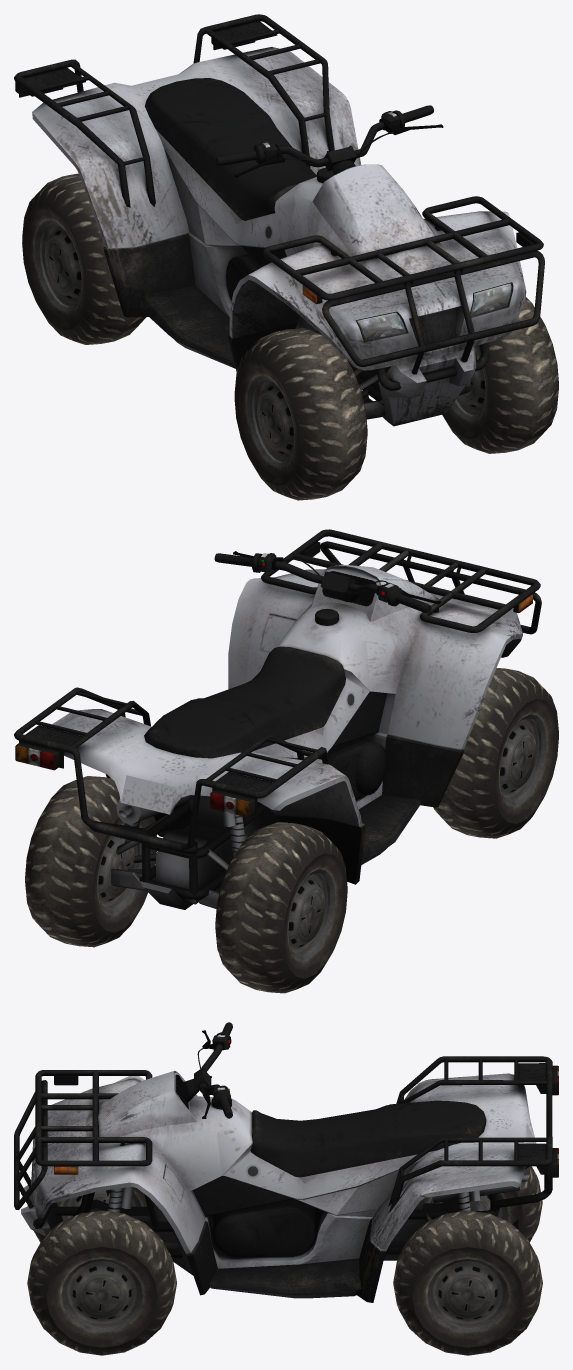
File: quad_bike_3d.glb
3 views of the same model, one above another, from view 1: azimuth 30°, elevation 25°; view 2: azimuth 150°, elevation 25°; view 3: azimuth 270°, elevation 25° (orthographic). The views are drawn at different scales.
Visible parts, largest first — view 1: Body, Wheel, Wheel2, Wheel4, Parts, Handle, Lights; view 2: Body, Wheel2, Wheel3, Wheel, Parts, Handle, Lights; view 3: Body, Wheel3, Wheel4, Parts, Handle, Wheel2, Wheel.
Part boxes in pixels (left/top/right/bottom): Body: left=14, top=14, right=544, bottom=426; Wheel: left=234, top=328, right=367, bottom=500; Wheel2: left=22, top=173, right=146, bottom=344; Wheel4: left=442, top=297, right=558, bottom=453; Parts: left=284, top=164, right=421, bottom=256; Handle: left=216, top=105, right=443, bottom=177; Lights: left=211, top=37, right=511, bottom=341; Body: left=14, top=529, right=541, bottom=909; Wheel2: left=215, top=822, right=347, bottom=993; Wheel3: left=25, top=776, right=156, bottom=947; Wheel: left=433, top=668, right=558, bottom=838; Parts: left=121, top=565, right=413, bottom=814; Handle: left=214, top=551, right=440, bottom=613; Lights: left=15, top=745, right=250, bottom=817; Body: left=14, top=1056, right=557, bottom=1302; Wheel3: left=393, top=1210, right=542, bottom=1355; Wheel4: left=27, top=1210, right=176, bottom=1355; Parts: left=111, top=1071, right=536, bottom=1190; Handle: left=178, top=1022, right=232, bottom=1118; Wheel2: left=424, top=1166, right=542, bottom=1242; Wheel: left=27, top=1187, right=147, bottom=1242.
Size of the model in its own units: 101 by 104 by 205.
Materials: 2 (2 with a texture image).
